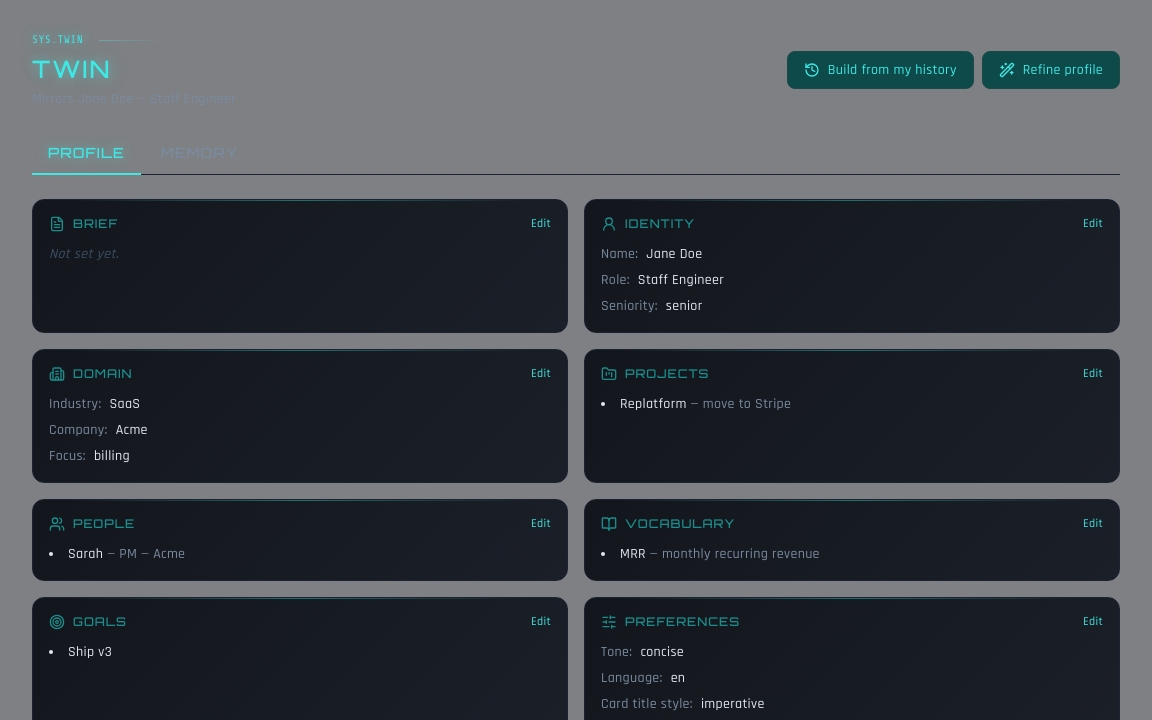
Scenario: TwinPage — section render, edit, save round-trip › "Refine profile" opens the wizard pre-filled from the existing profile
Expected: the text "Jane Doe" is shown, [646, 244, 702, 264]
Click the button "Refine profile" at coordinates (1051, 70), box [982, 51, 1120, 89]
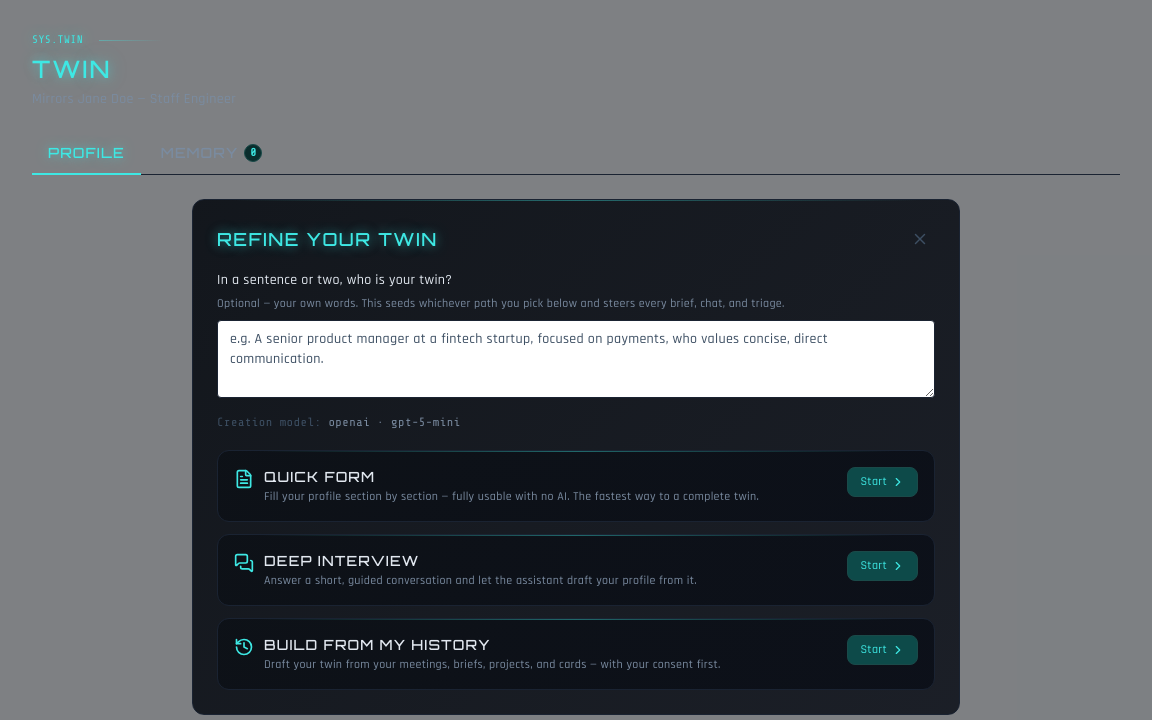
Expected: the heading "Refine your twin" is shown, [217, 224, 438, 252]
Note: Pre-filled: enter Quick form and the identity step's Name field carries the stored value.
Click the button with aria-label "start quick form" at coordinates (883, 482), box [847, 466, 918, 496]
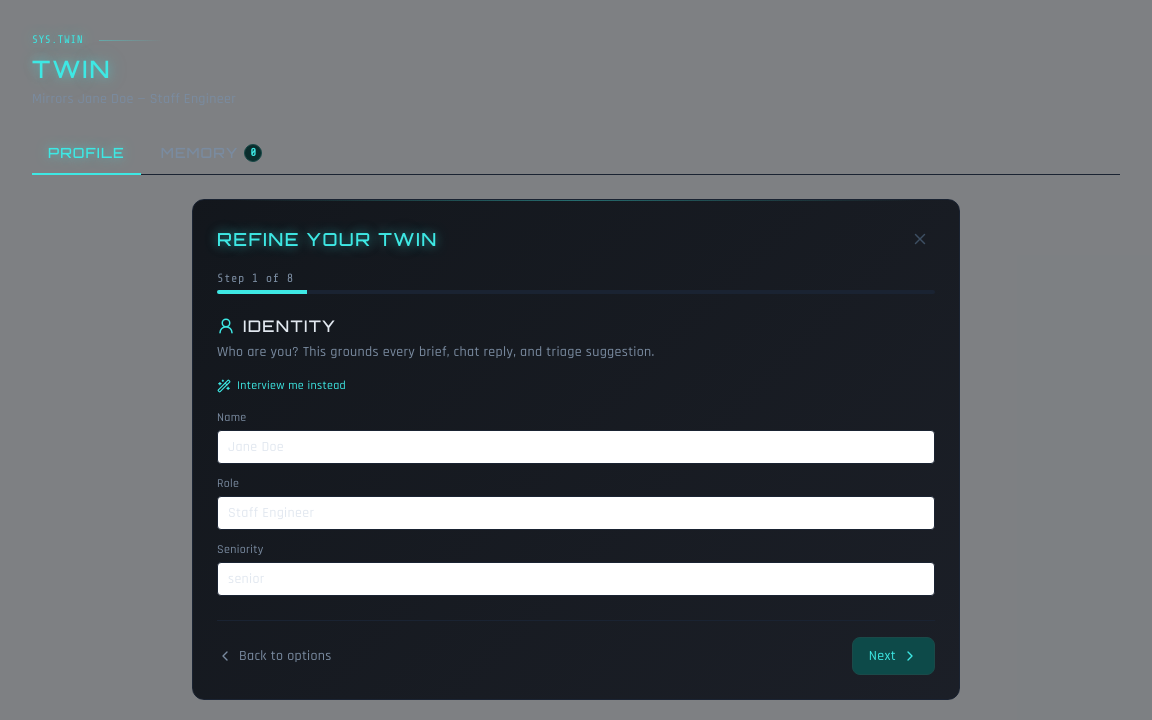
Expected: the field showing "Jane Doe" is shown, [217, 430, 935, 464]
